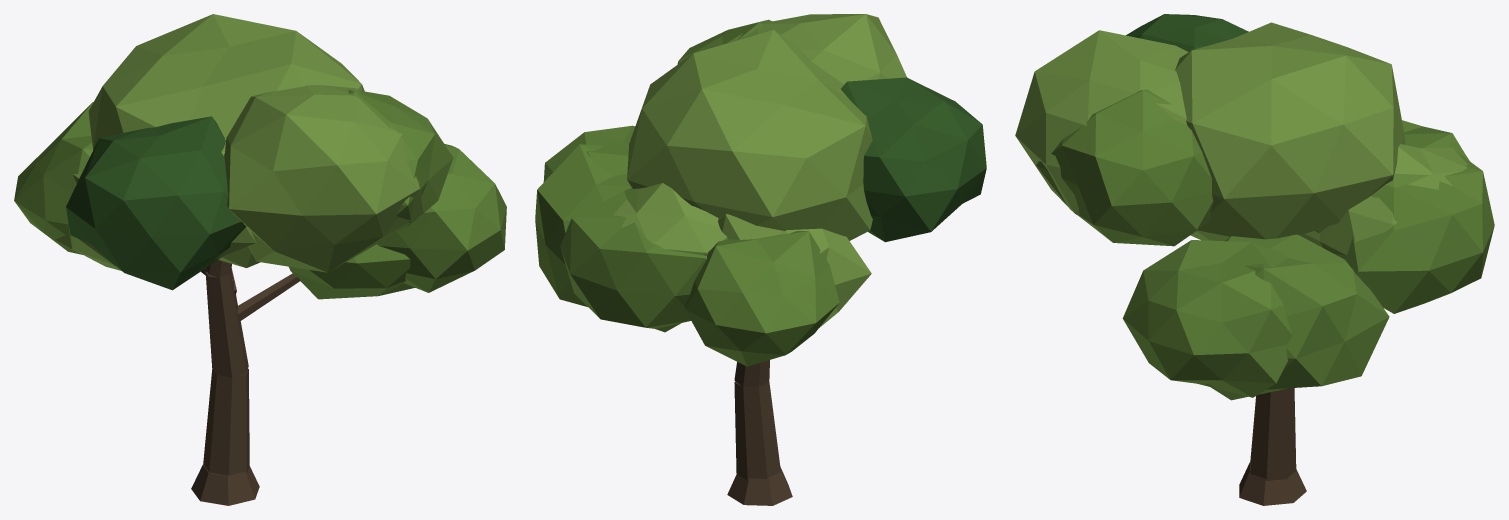
Rendered from oak2.glb.
3 renders of one model, left to right at view 1: azimuth 30°, elevation 25°; view 2: azimuth 150°, elevation 25°; view 3: azimuth 270°, elevation 25°, orthographic. The views are drawn at different scales.
Visible parts, largest first — view 1: Tree; view 2: Tree; view 3: Tree.
Boxes of the visible parts, x1,y1,x2,y2 form: Tree: [14, 14, 506, 505]; Tree: [535, 14, 986, 505]; Tree: [1015, 14, 1494, 505].
Size of the model in its own units: 6.27 by 6.32 by 6.06.
